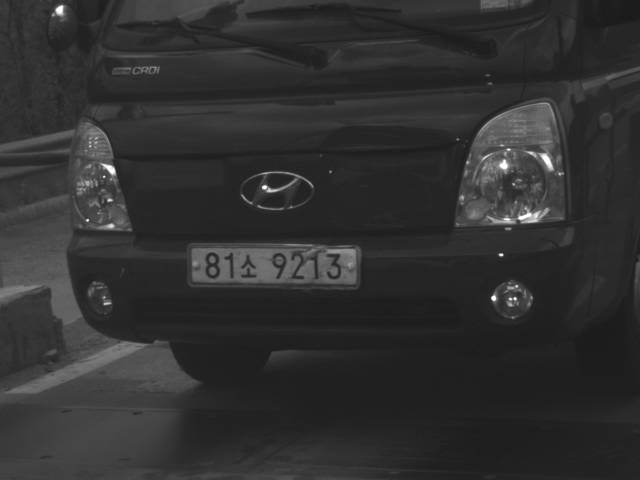car: (48, 1, 640, 397)
plate: (188, 245, 359, 288)
